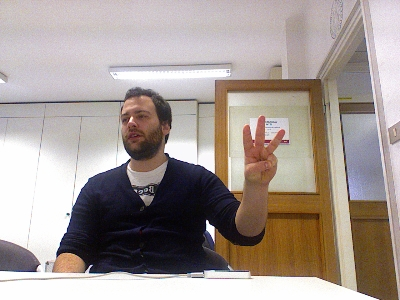三分: (241, 114, 285, 188)
